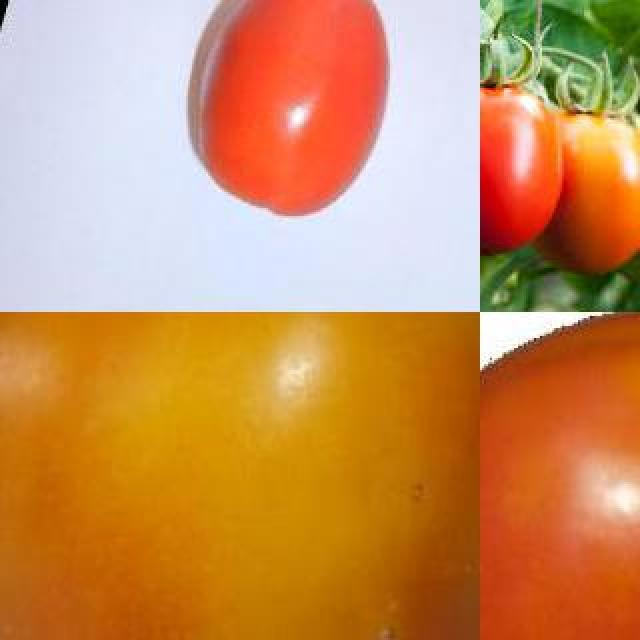Fresh_Tomato: (0, 312, 480, 640), (480, 312, 640, 640), (184, 0, 404, 228), (480, 38, 560, 260), (546, 84, 640, 272)
